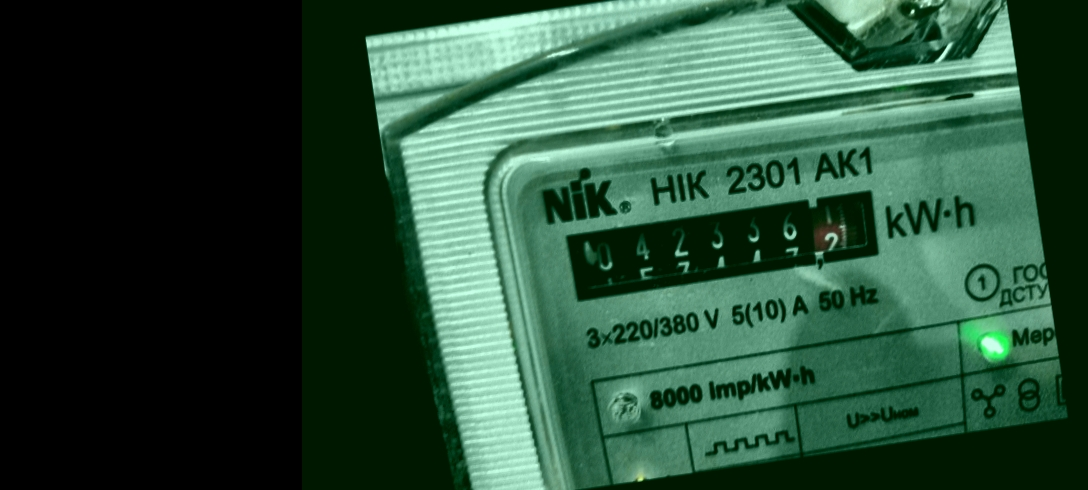0: (594, 237, 617, 273)
1: (821, 199, 836, 226)
2: (668, 222, 694, 259), (822, 229, 842, 253)
3: (705, 216, 727, 250), (744, 211, 765, 245)
4: (633, 228, 654, 262)
6: (778, 207, 803, 244)
screen: (553, 174, 898, 313)
